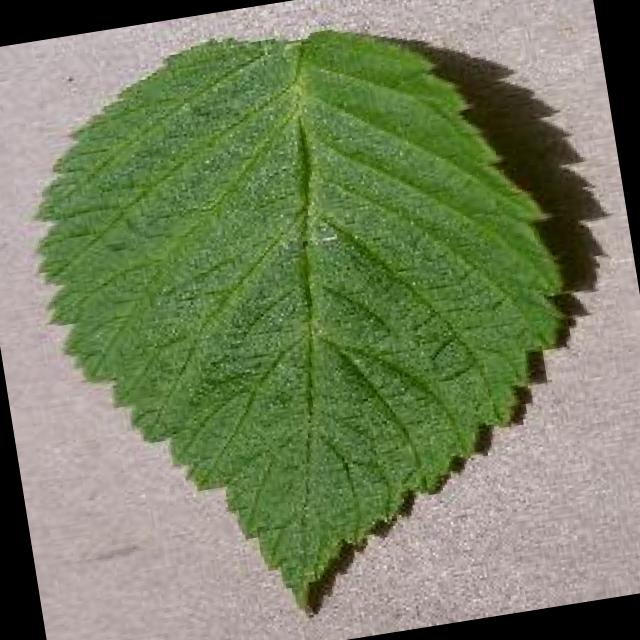healthy: (42, 34, 561, 608)
